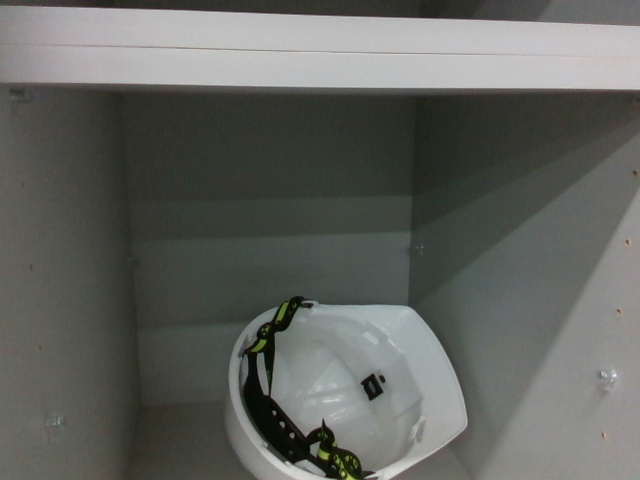helmet: (221, 294, 473, 480)
